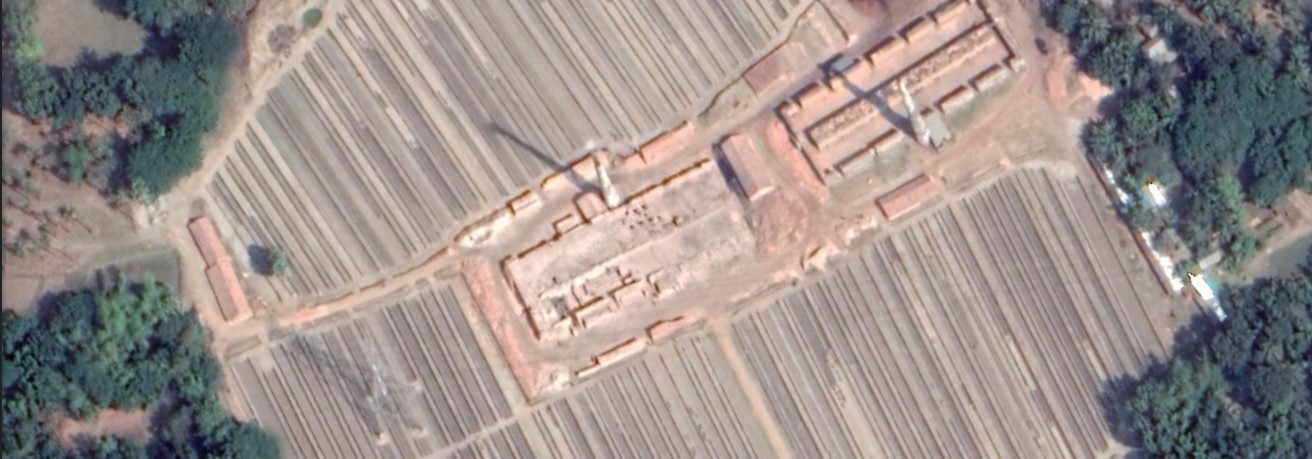kiln: (473, 121, 729, 364), (789, 34, 1014, 188)
